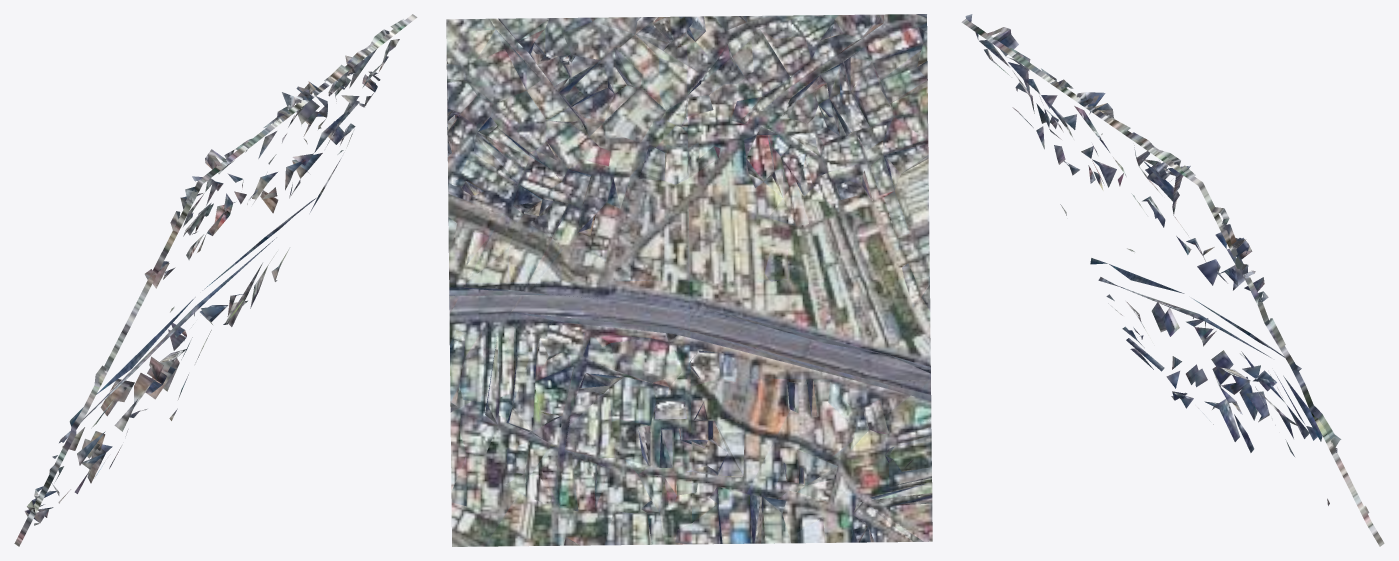
The picture shows the model from 3 angles, left to right: view 1: azimuth 30°, elevation 25°; view 2: azimuth 150°, elevation 25°; view 3: azimuth 270°, elevation 25°; orthographic projection. The views are drawn at different scales.
Size of the model in its own units: 1222 by 1128 by 1034.
Materials: 1 (1 with a texture image).
